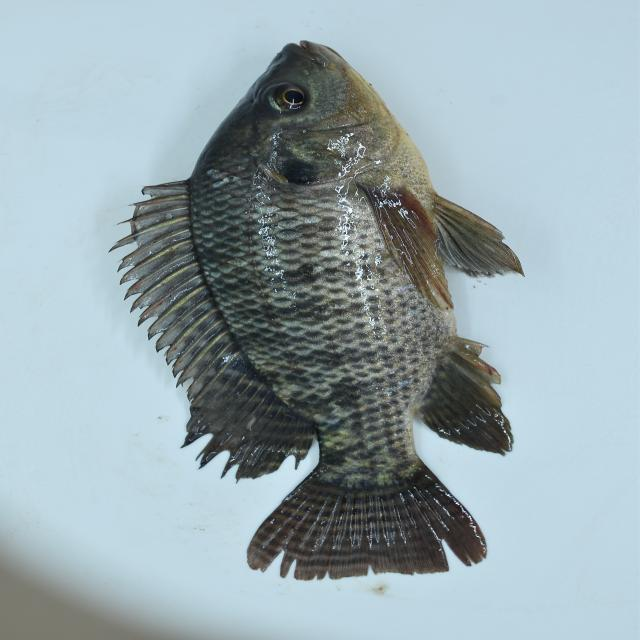Healthy Fish: (111, 41, 516, 587)
